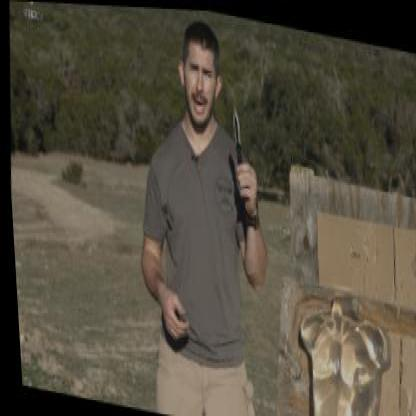knife: (223, 95, 258, 195)
